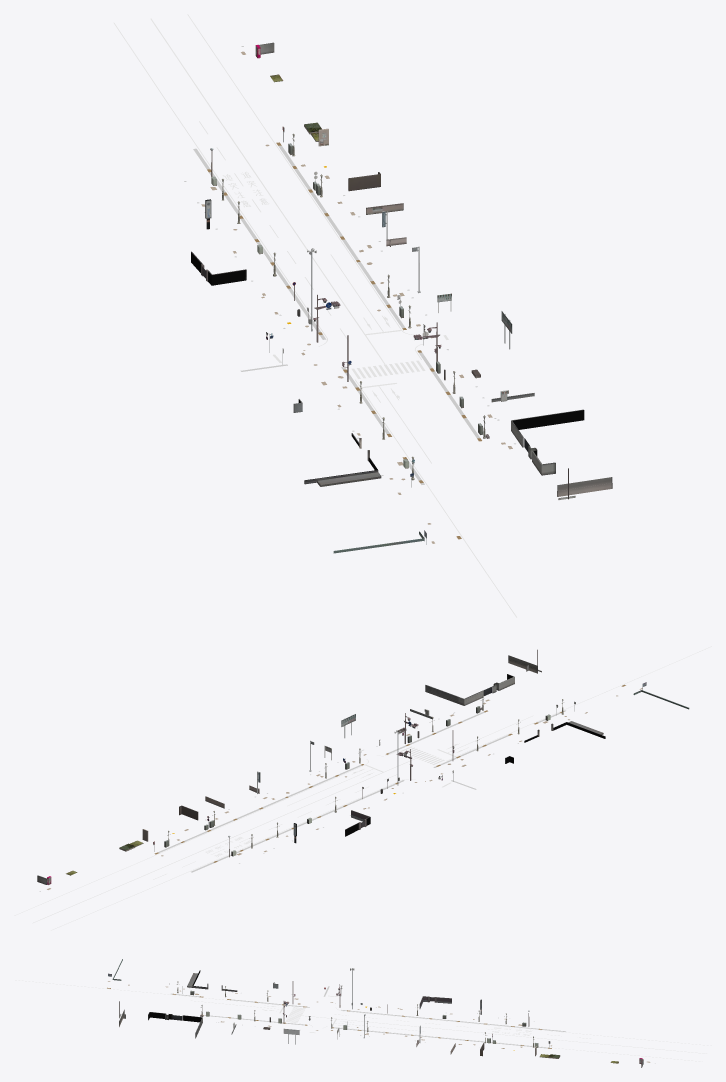
The model's file is frn--13.glb.
The picture shows the model from 3 angles, top to bottom: view 1: azimuth 30°, elevation 25°; view 2: azimuth 150°, elevation 25°; view 3: azimuth 270°, elevation 25°; orthographic projection. The views are drawn at different scales.
Size of the model in its own units: 85.12 by 15.65 by 224.
2 materials, 1 textured.
